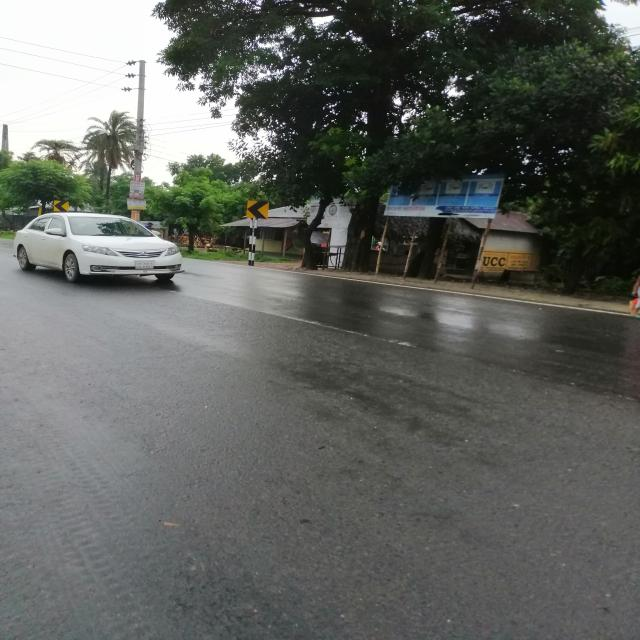Car: (11, 209, 192, 289)
